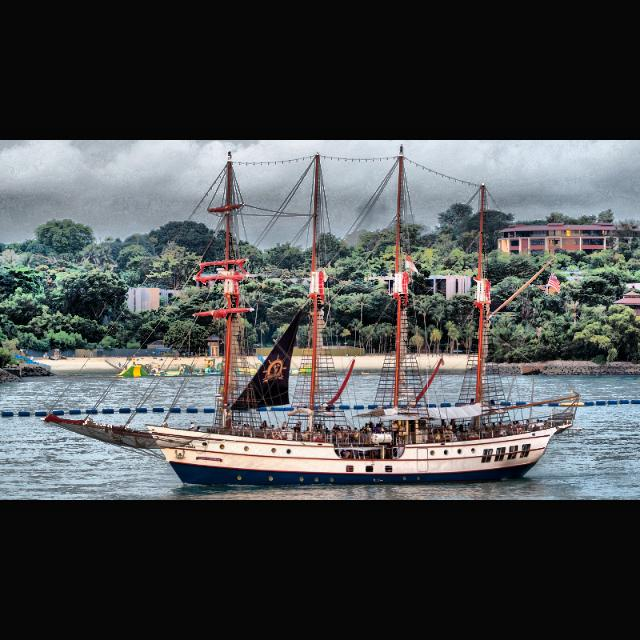sailing_vessel: (39, 145, 581, 487)
